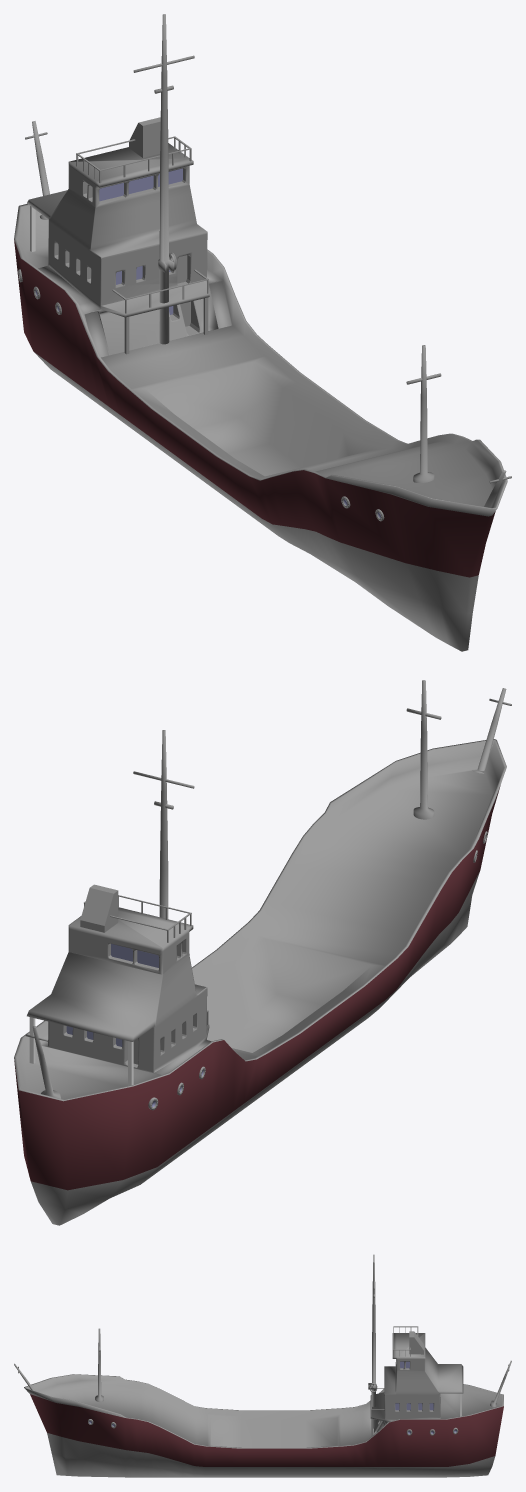
File: D1_Ship3.glb
The picture shows the model from 3 angles, top to bottom: view 1: azimuth 30°, elevation 25°; view 2: azimuth 150°, elevation 25°; view 3: azimuth 270°, elevation 25°; orthographic projection. The views are drawn at different scales.
Visible parts, largest first — view 1: Object_6, Object_2, Object_4; view 2: Object_6, Object_2, Object_4; view 3: Object_6, Object_2.
Part boxes in pixels (x1,y1,x2,y2): Object_6: (14,14,511,651); Object_2: (14,239,495,577); Object_4: (35,168,380,518); Object_6: (14,680,511,1225); Object_2: (14,786,500,1190); Object_4: (66,944,203,1107); Object_6: (14,1254,511,1477); Object_2: (30,1394,503,1466).
Size of the model in its own units: 6.14 by 16.34 by 33.6.
